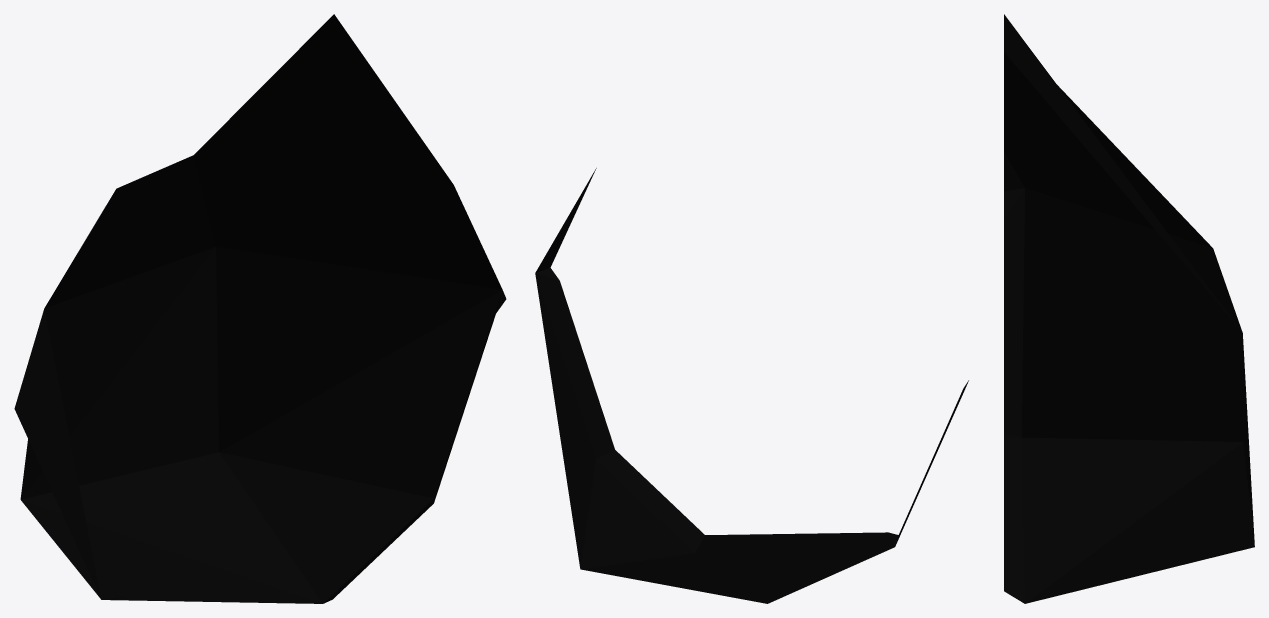
3 renders of one model, left to right at view 1: azimuth 30°, elevation 25°; view 2: azimuth 150°, elevation 25°; view 3: azimuth 270°, elevation 25°, orthographic. The views are drawn at different scales.
Bounding box in the file's own units: 0.4116 × 0.4815 × 0.1855.
Materials: 1 (1 with a texture image).
